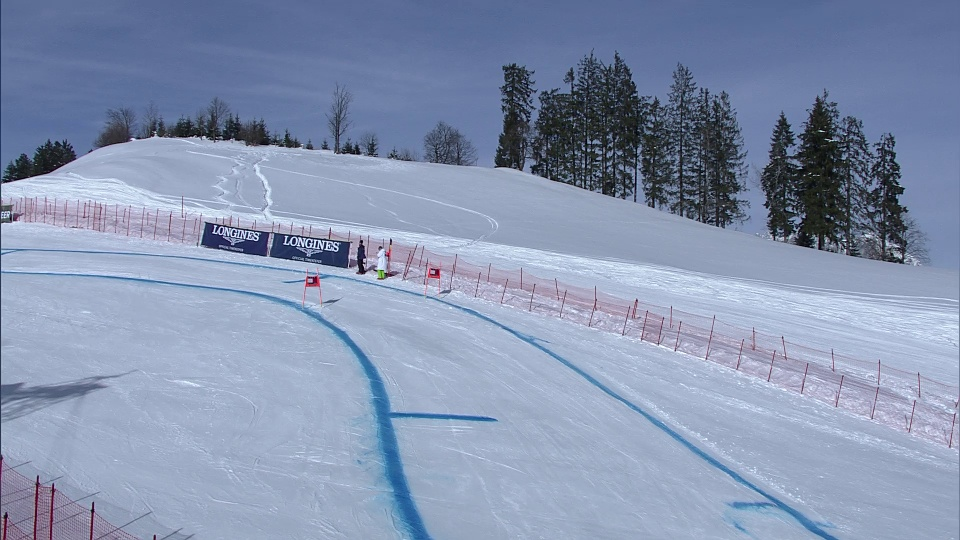longines: (272, 235, 344, 264), (207, 226, 262, 252)
